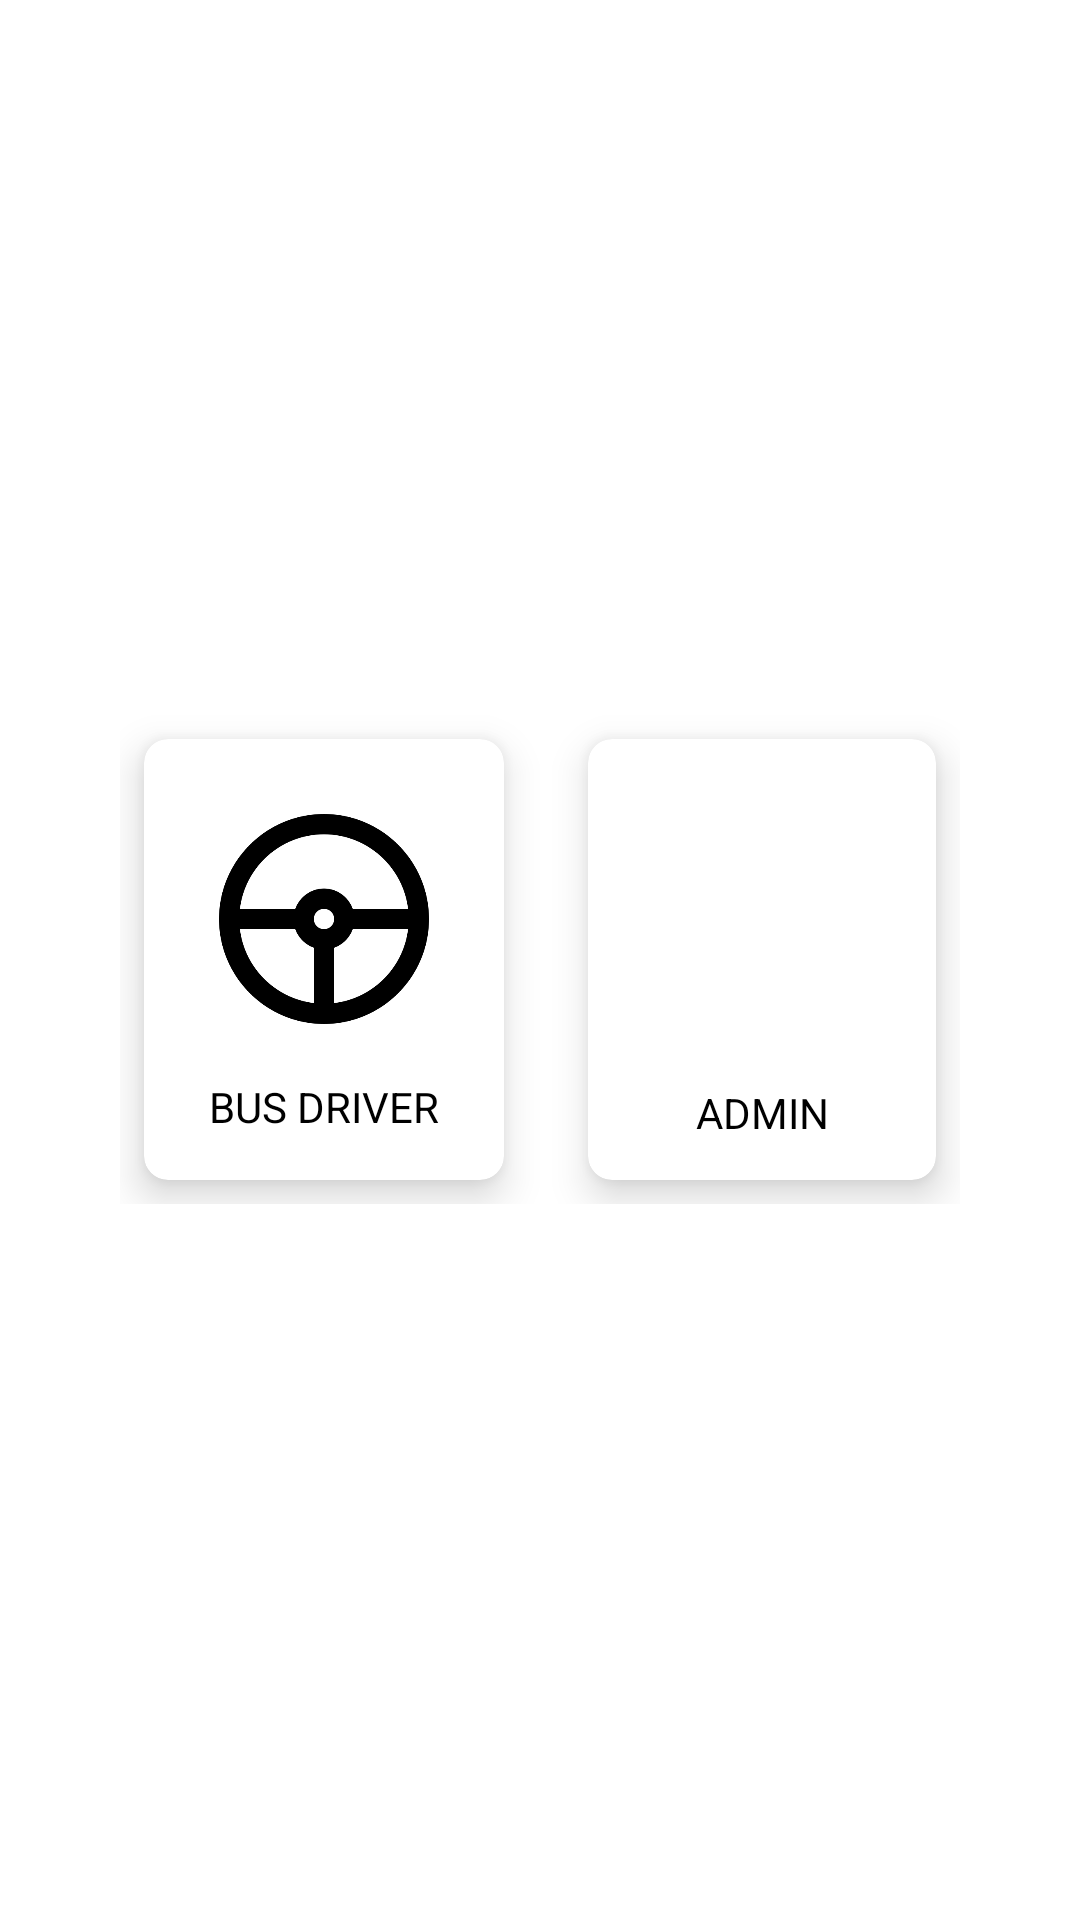

Icons on this 1080px x 1920px Android screen, each with its box as {"x1": x1, "y1": y1, "x2": x2, "y2": y2}:
wheel: {"x1": 219, "y1": 814, "x2": 429, "y2": 1024}
